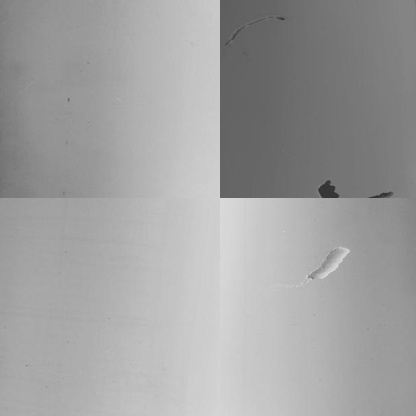fengxi: (366, 186, 394, 198)
kongdong: (316, 178, 340, 197)
sunshang: (306, 240, 352, 285)
